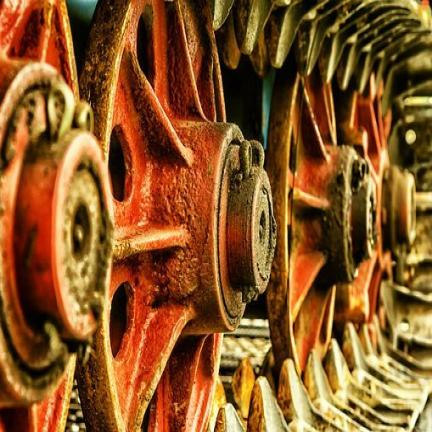karat: (107, 17, 232, 431)
